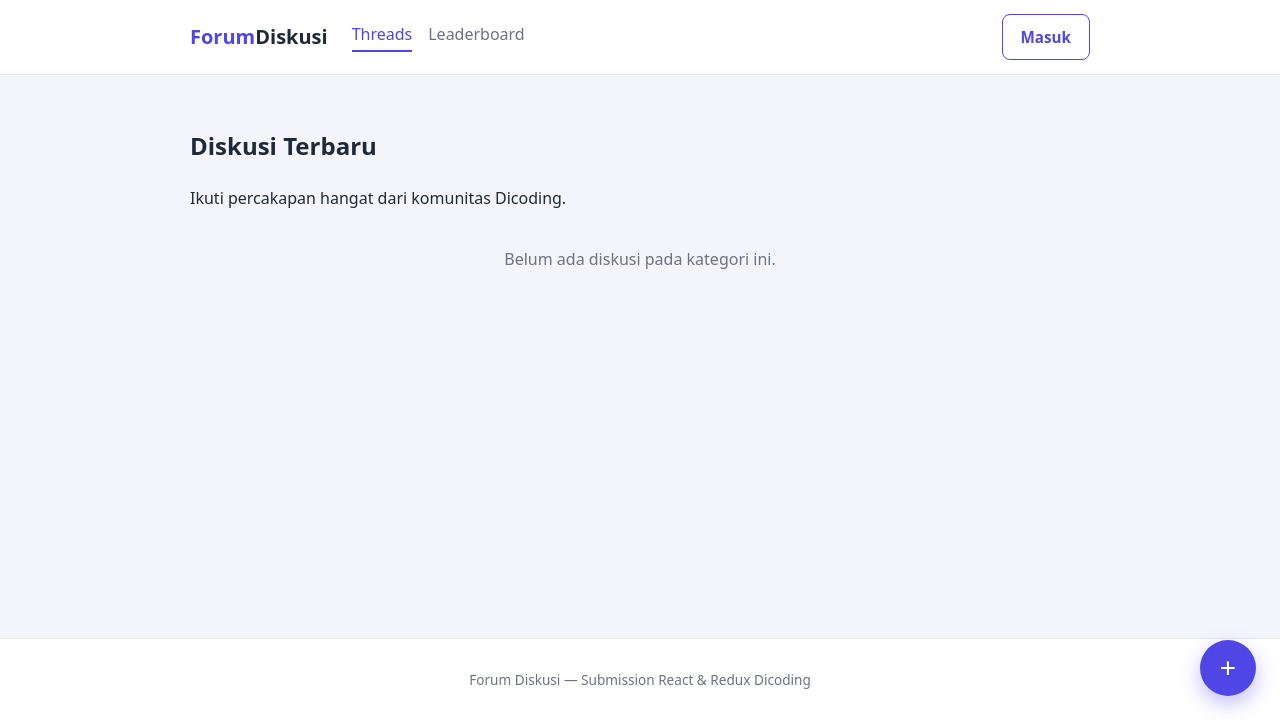
Test: Login spec › should display homepage when email and password are correct
Click the link to "#/login". click: {"x": 1047, "y": 37}
box: [1002,14,1091,60]
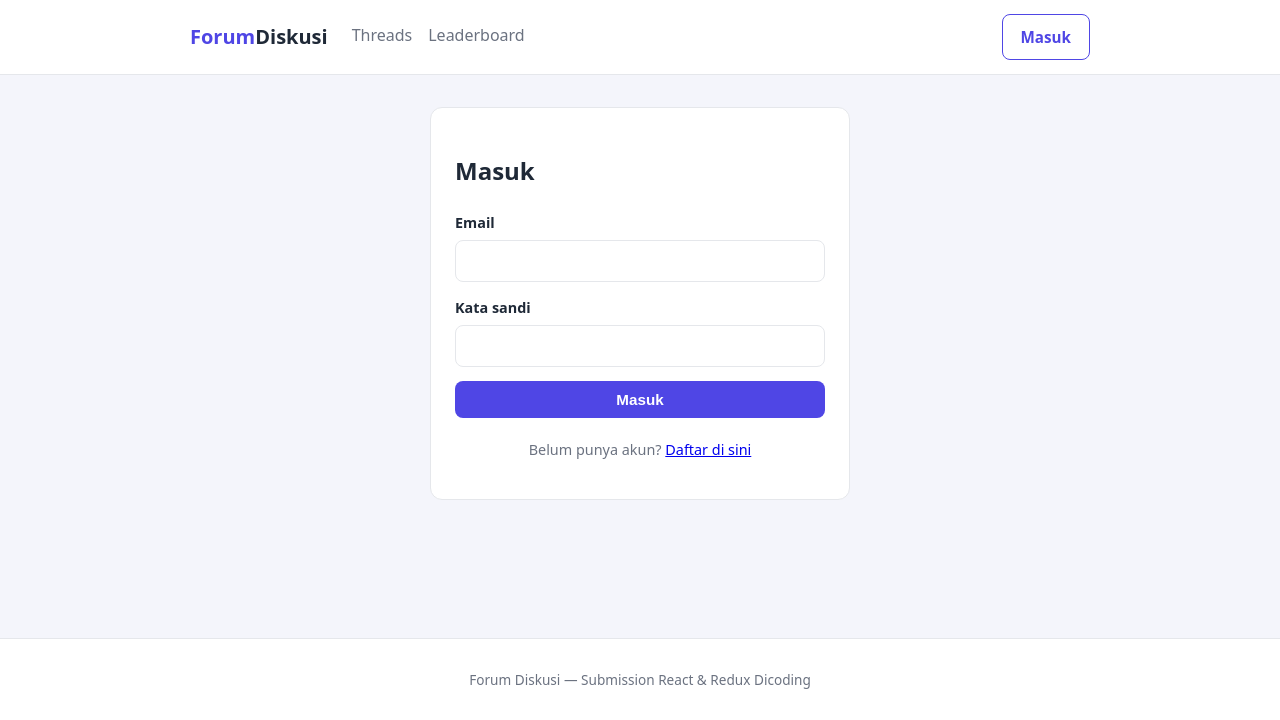
Type "john@example.com" into the field with id "email". click: {"x": 640, "y": 261}
box: [455,240,825,282]
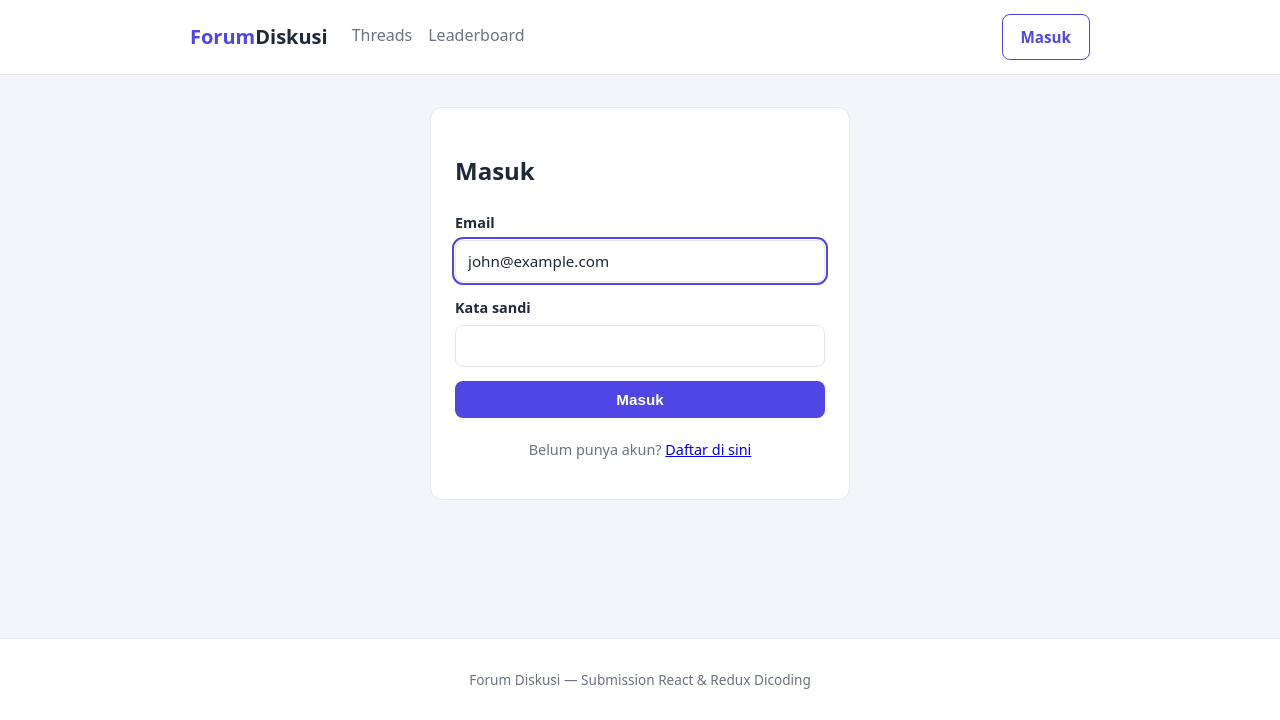
Type "secretpassword" into the password field labelled "Kata sandi". click: {"x": 640, "y": 346}
box: [455,325,825,367]
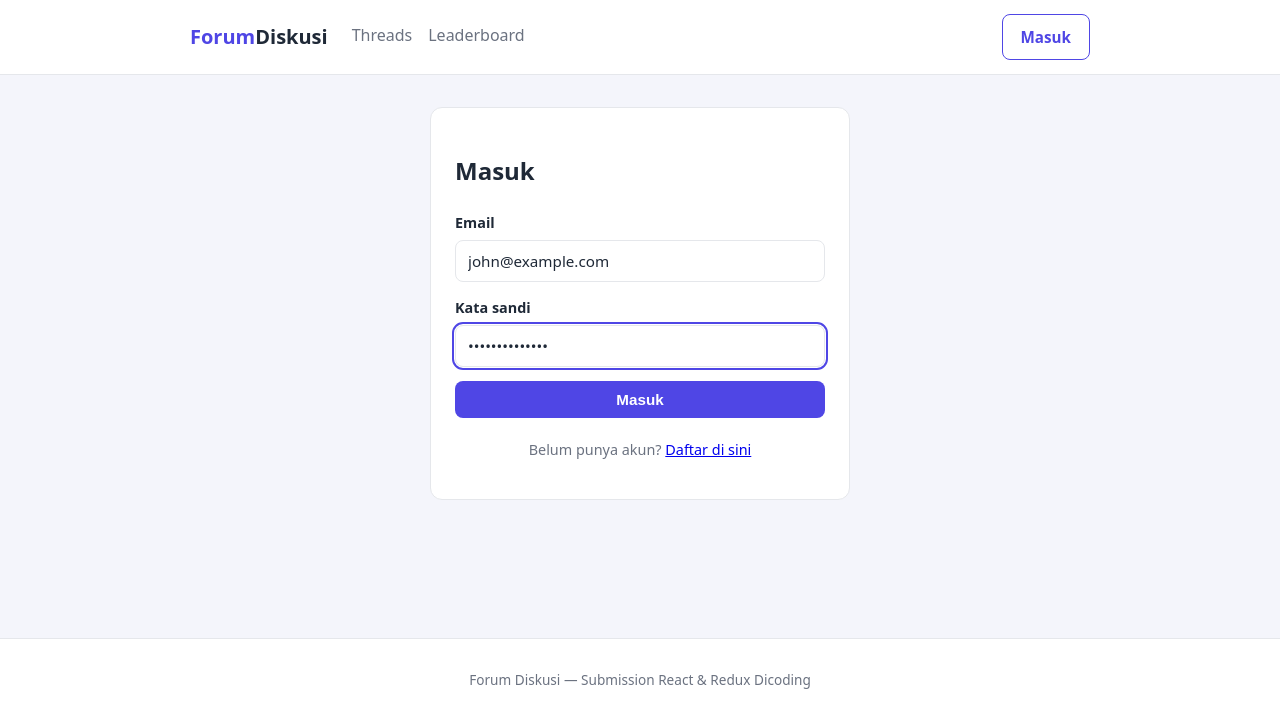
Click the button "Masuk". click: {"x": 640, "y": 400}
box: [455,381,825,418]
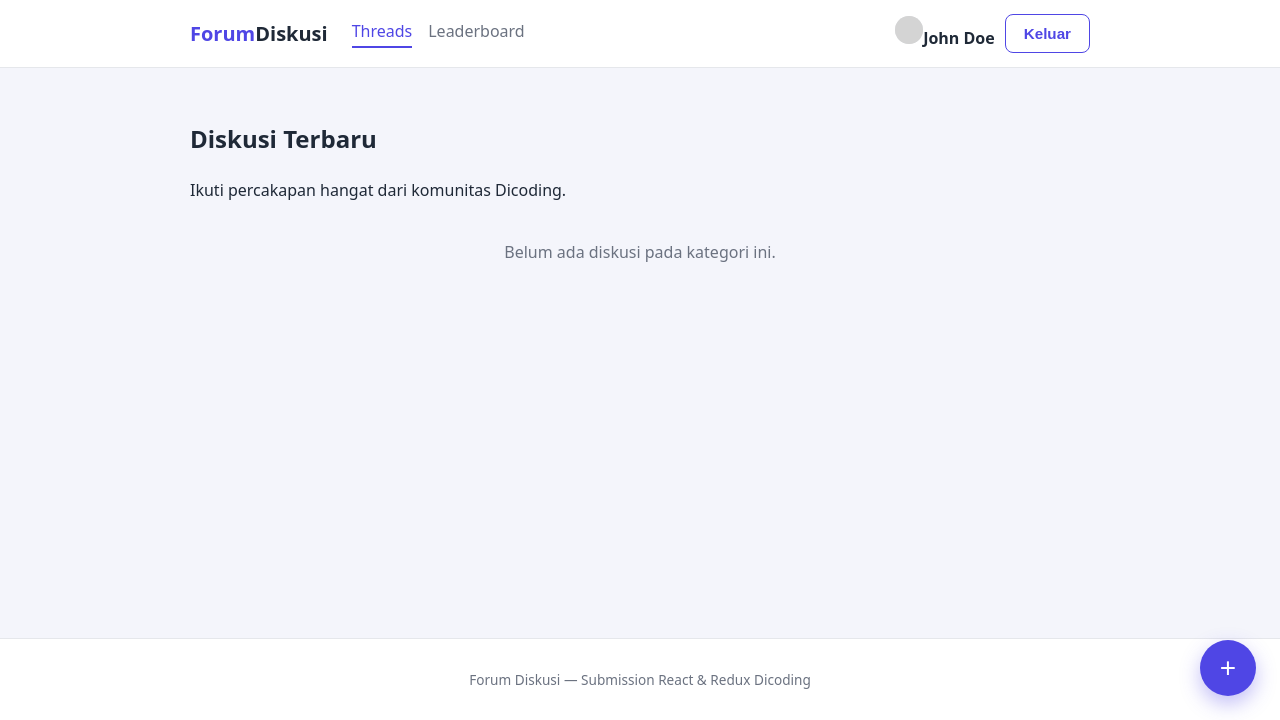
Check: the button "Keluar" is shown, box [1005,14,1090,53]
